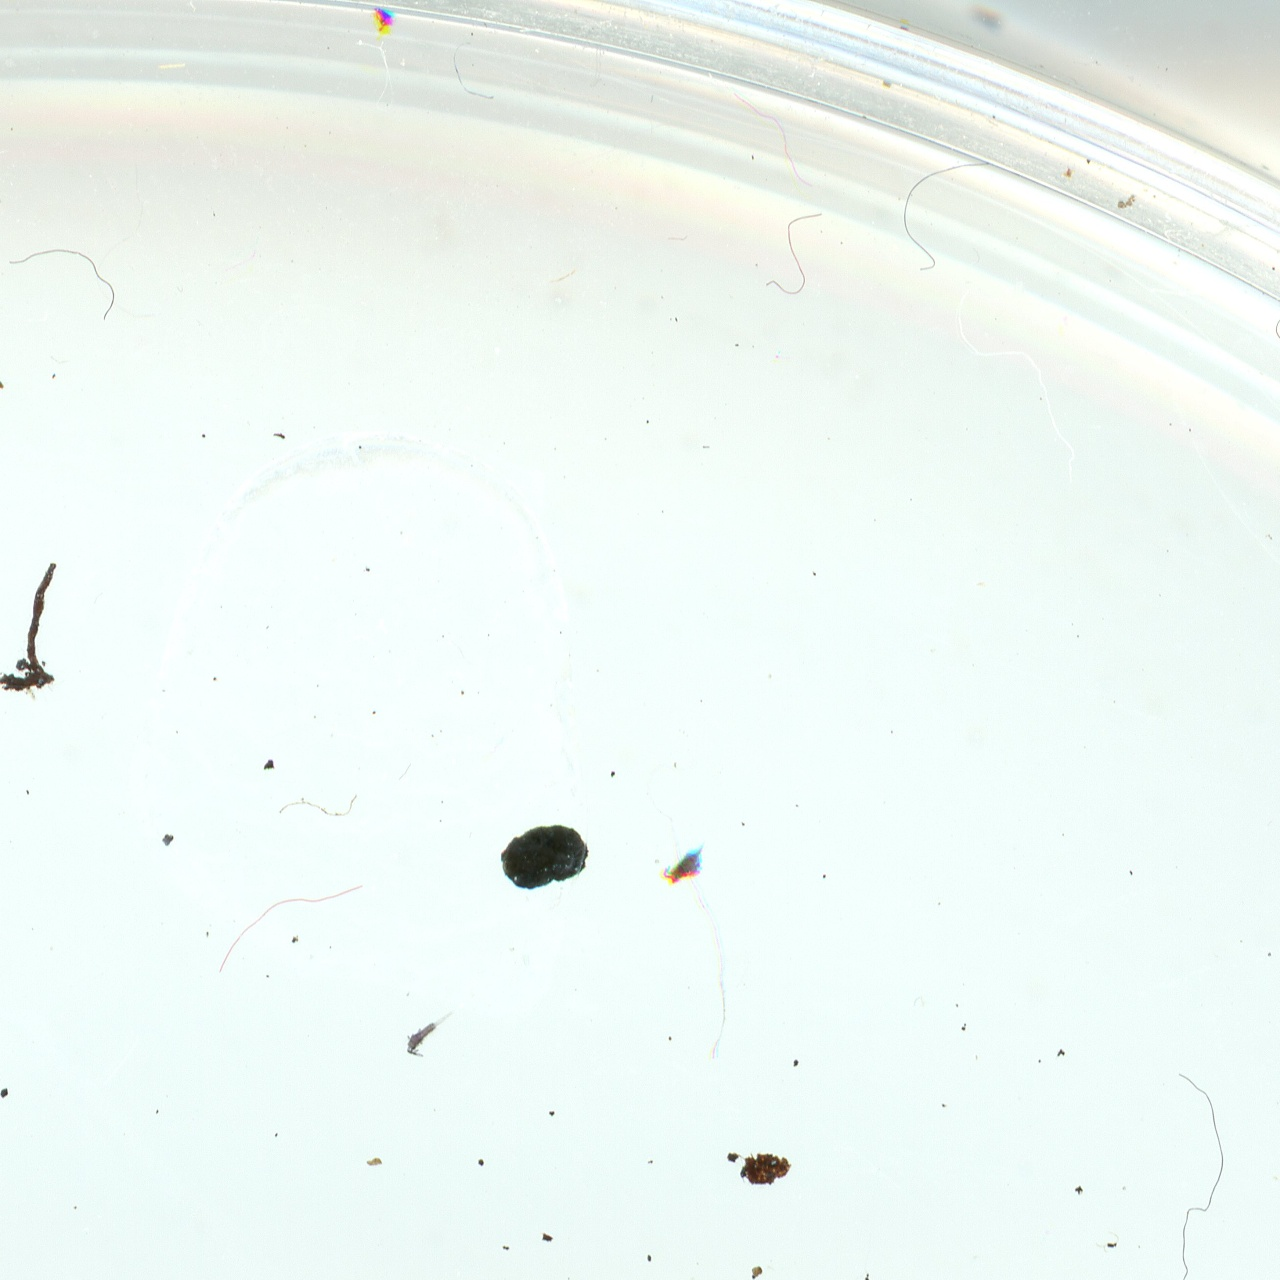arthropod: (663, 844, 704, 887)
